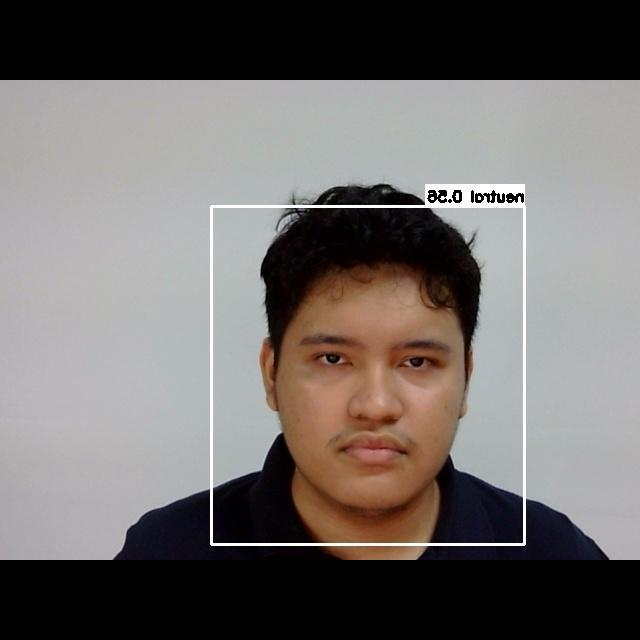Natural: (287, 304, 464, 495)
